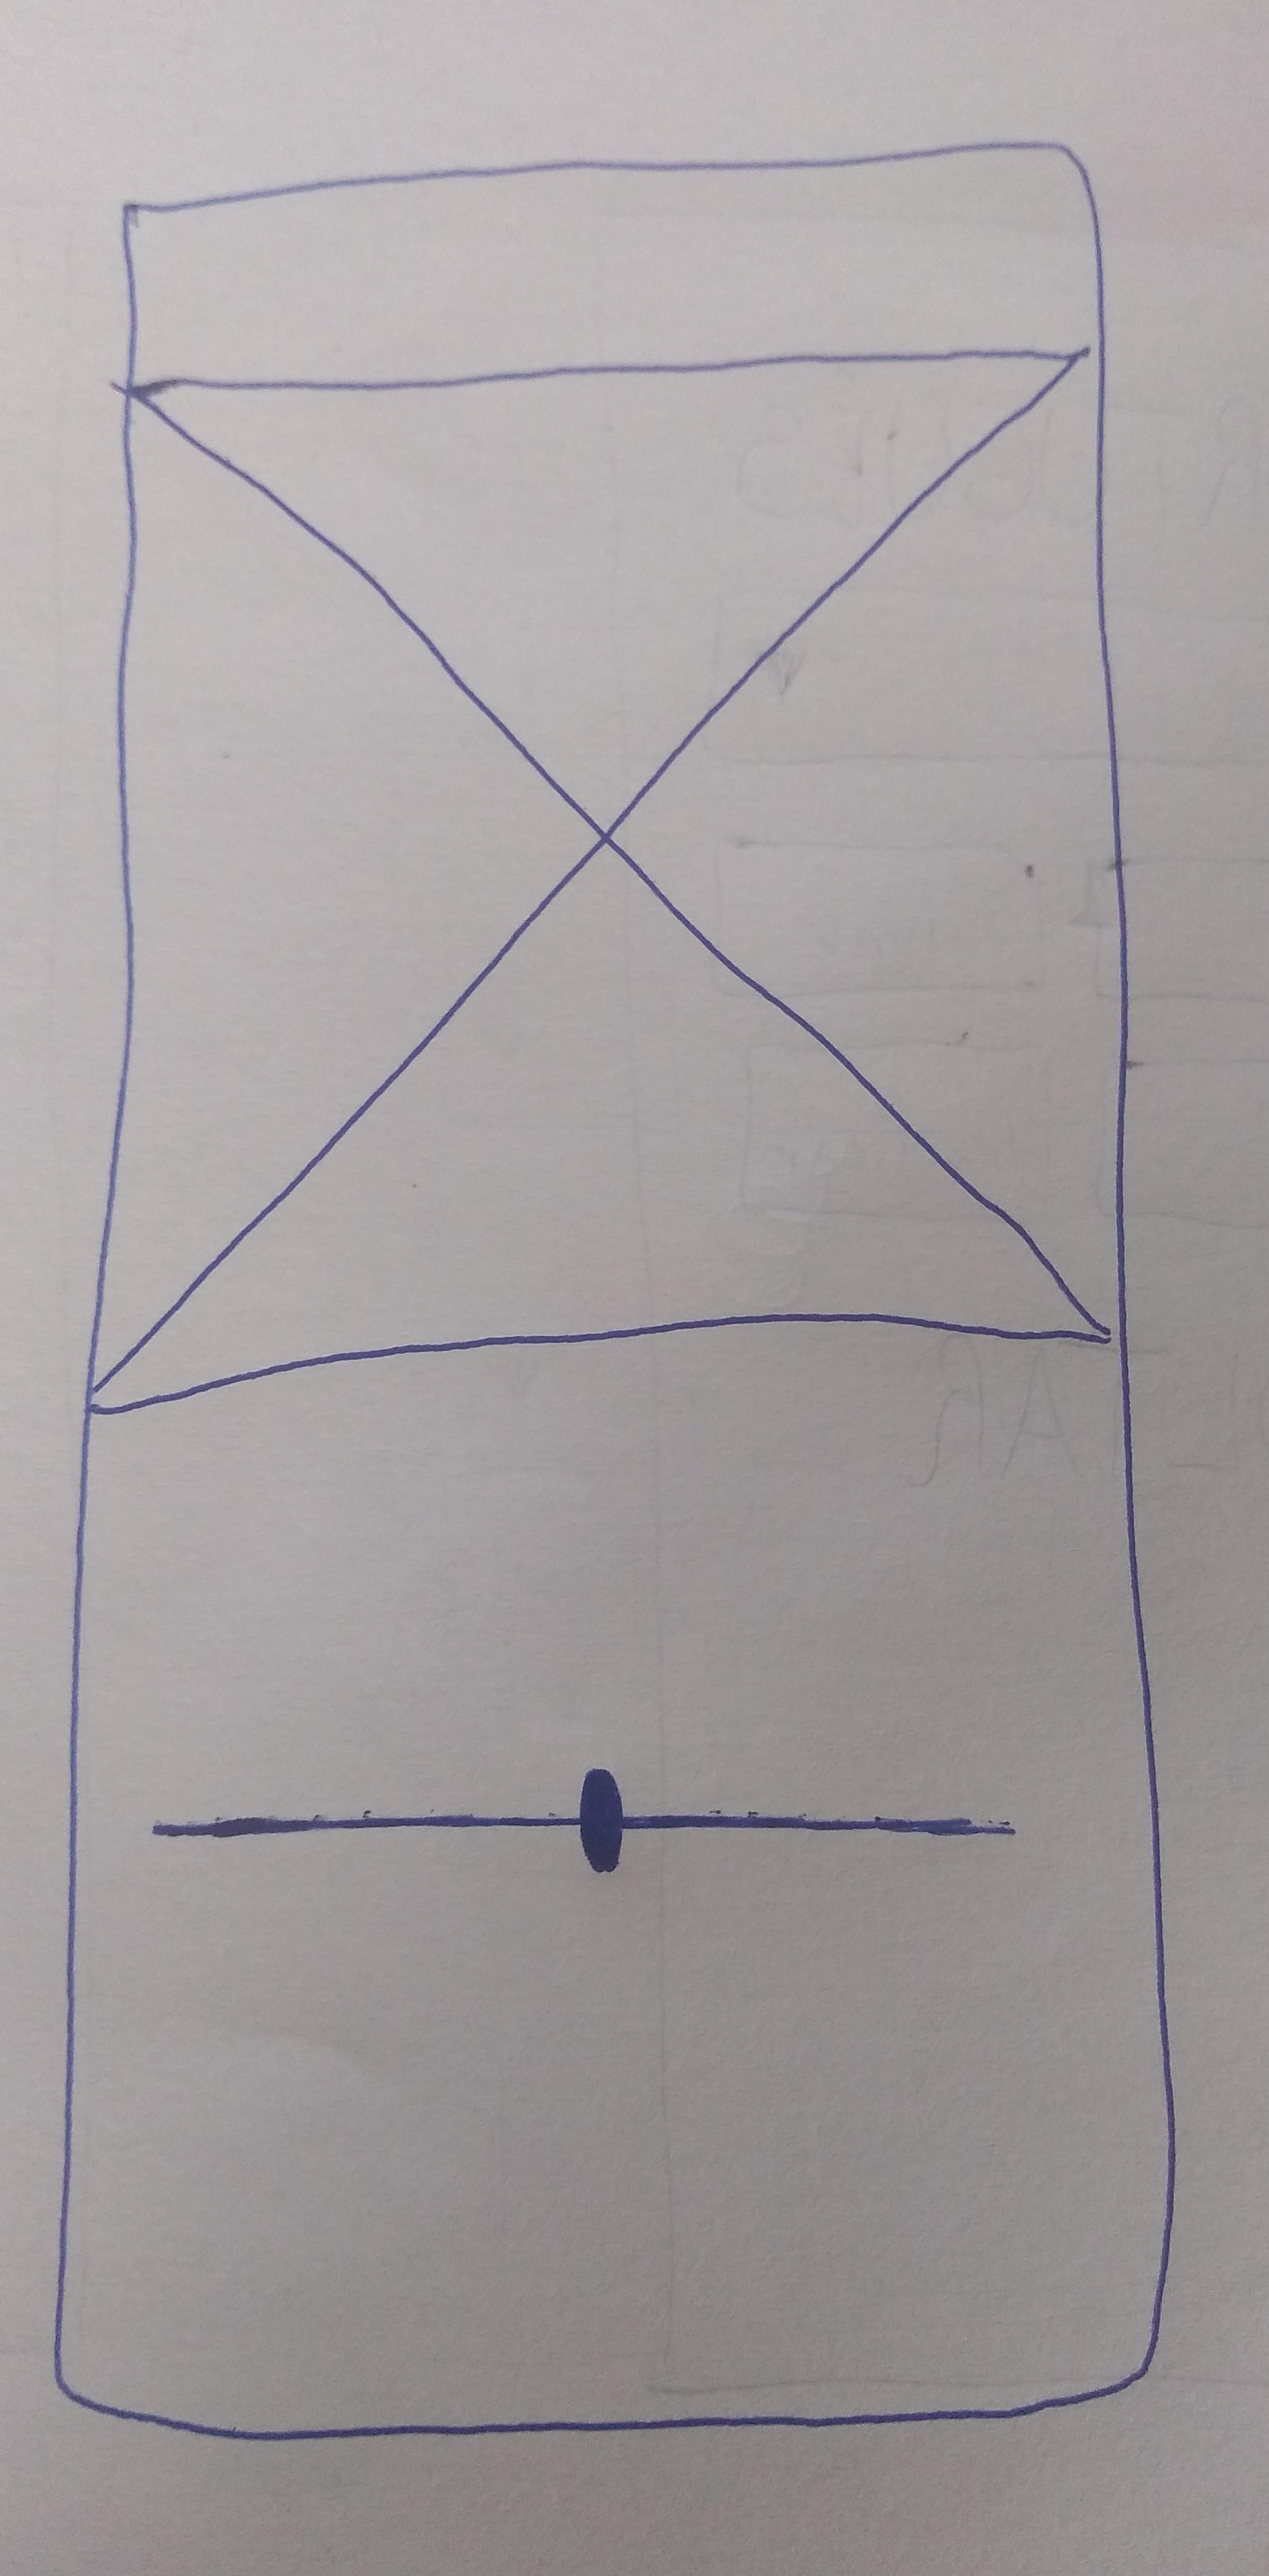Image: (88, 348, 1122, 1417)
Screen: (51, 144, 1175, 2439)
Slider: (153, 1766, 1017, 1875)
